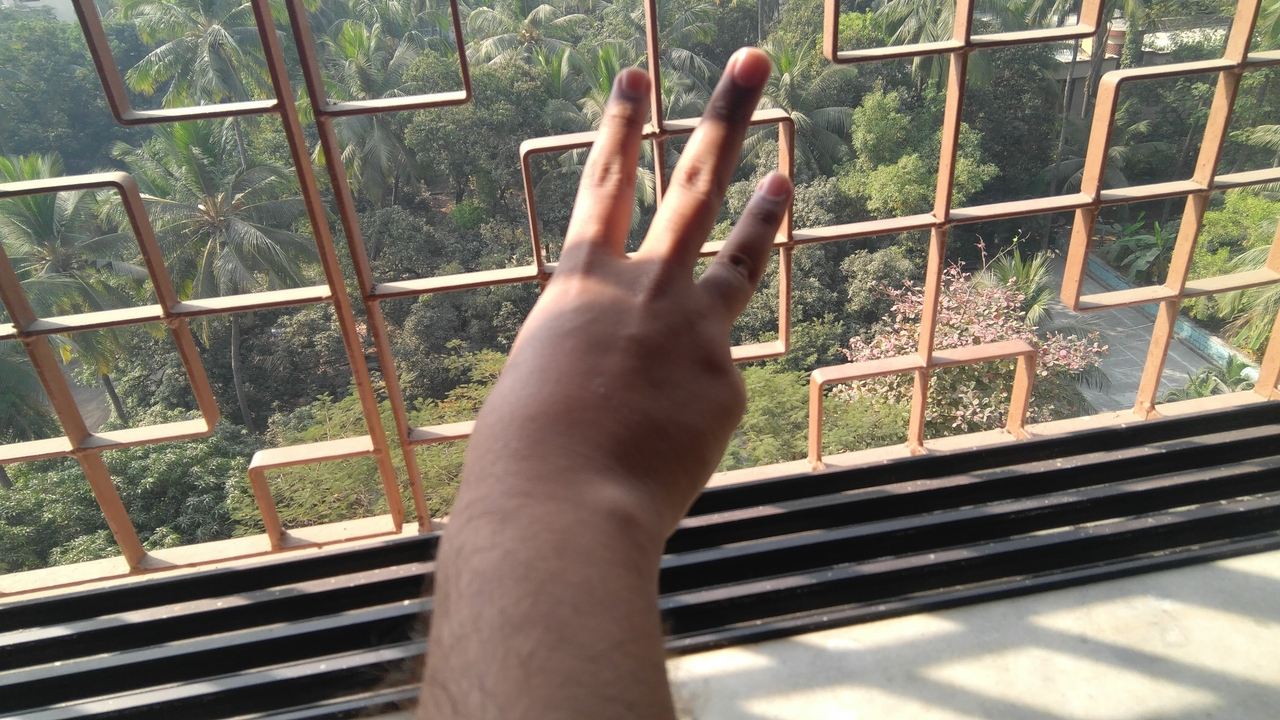fingertip: (742, 160, 798, 214), (606, 58, 656, 108), (722, 42, 774, 90)
